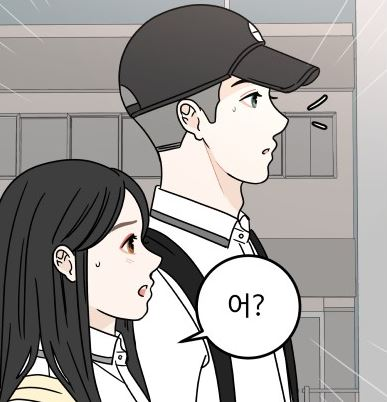hat: (119, 4, 321, 93)
